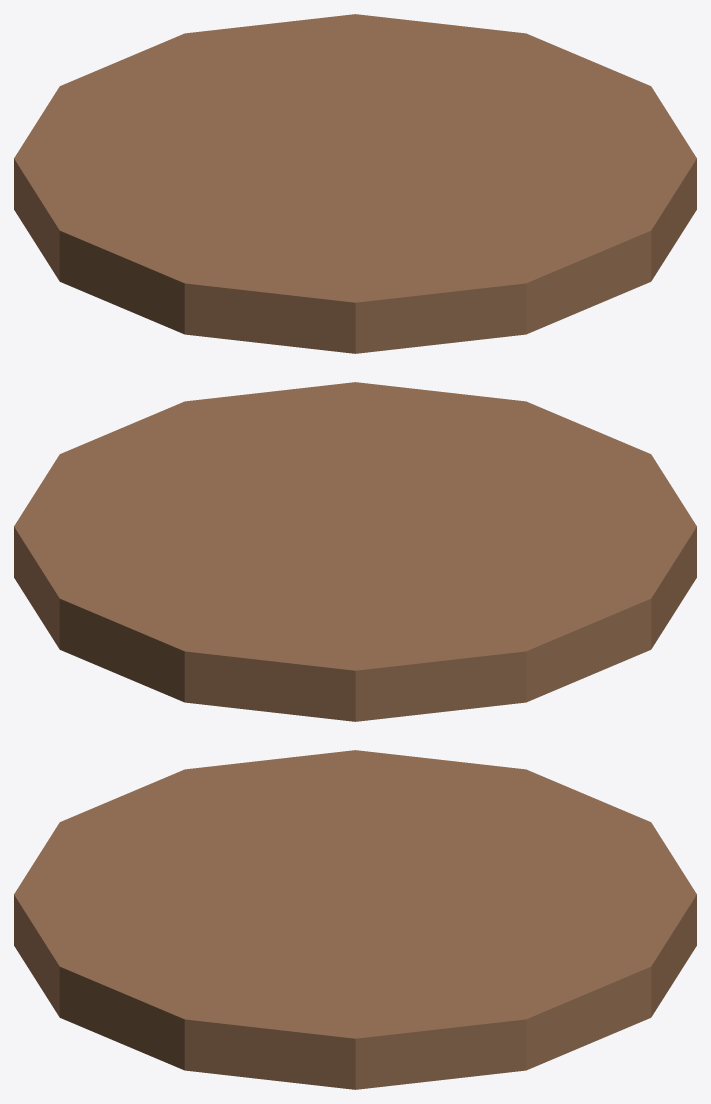
Rendered from Cage_01_Base.fbx.
The picture shows the model from 3 angles, top to bottom: view 1: azimuth 30°, elevation 25°; view 2: azimuth 150°, elevation 25°; view 3: azimuth 270°, elevation 25°; orthographic projection.
Visible parts, largest first — view 1: Cage_01_Base; view 2: Cage_01_Base; view 3: Cage_01_Base.
Boxes of the visible parts, x1=… form: Cage_01_Base: x1=14, y1=14, x2=696, y2=353; Cage_01_Base: x1=14, y1=382, x2=696, y2=721; Cage_01_Base: x1=14, y1=750, x2=696, y2=1089.
Size of the model in its own units: 46.86 by 3.87 by 46.86.
